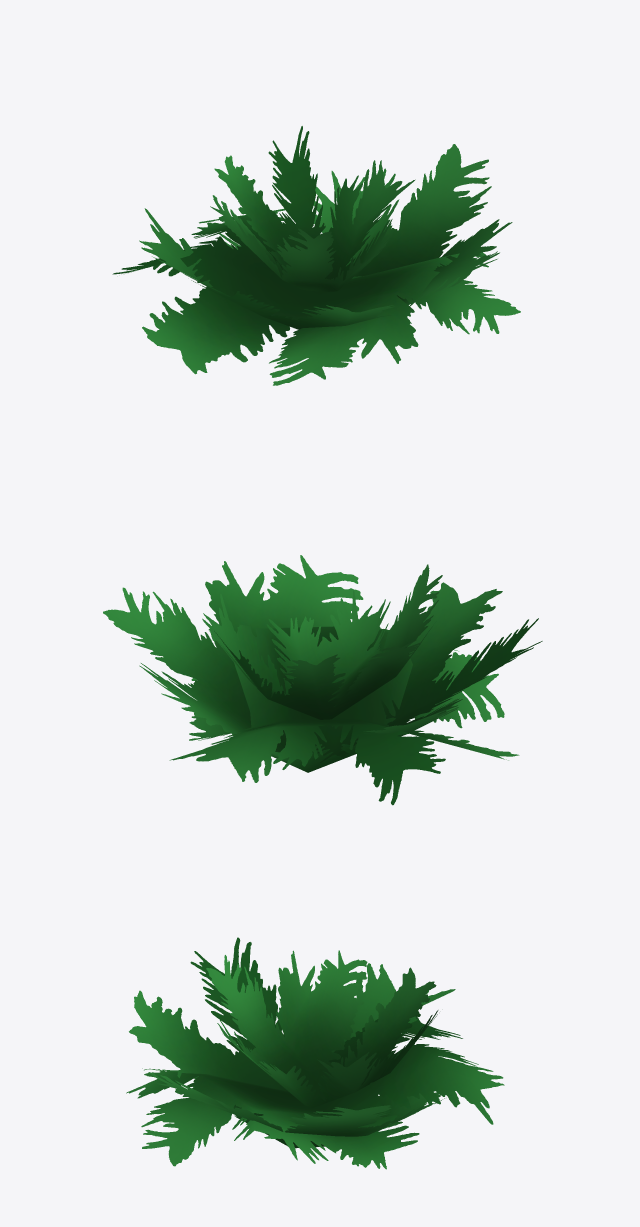
Rendered from Plants_Smallplant_v2.fbx.
3 renders of one model, top to bottom at view 1: azimuth 30°, elevation 25°; view 2: azimuth 150°, elevation 25°; view 3: azimuth 270°, elevation 25°, orthographic. The views are drawn at different scales.
Visible parts, largest first — view 1: Small_plant; view 2: Small_plant; view 3: Small_plant.
Part boxes in pixels (x1,y1,x2,y2): Small_plant: (112,126,520,385); Small_plant: (103,555,542,805); Small_plant: (126,937,504,1169).
Size of the model in its own units: 88.13 by 32.38 by 88.13.
